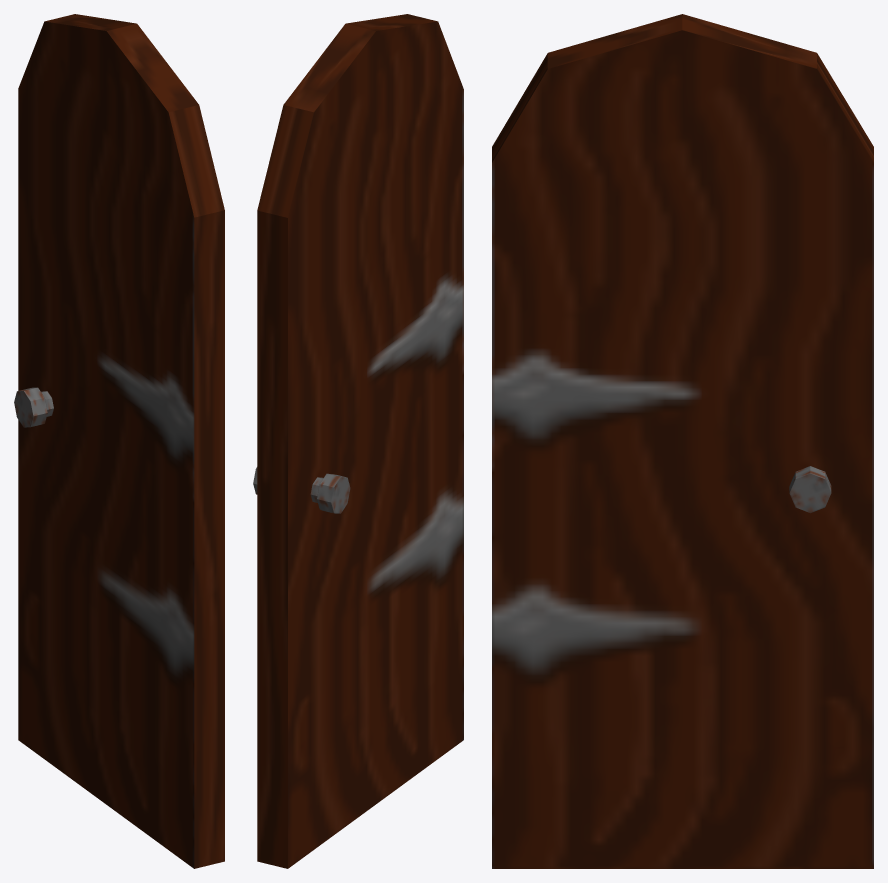
The model's file is puerta.fbx.
3 views of the same model, side by side, from view 1: azimuth 30°, elevation 25°; view 2: azimuth 150°, elevation 25°; view 3: azimuth 270°, elevation 25° (orthographic). The views are drawn at different scales.
Visible parts, largest first — view 1: Cylinder.001, Pomo; view 2: Cylinder.001, Pomo; view 3: Cylinder.001, Pomo.
Boxes of the visible parts, box(x1,y1,x2,y2) form: Cylinder.001: box(18, 14, 224, 868); Pomo: box(14, 387, 53, 427); Cylinder.001: box(257, 14, 463, 868); Pomo: box(253, 467, 350, 513); Cylinder.001: box(492, 14, 873, 868); Pomo: box(789, 466, 831, 513).
Bounding box in the file's own units: 98.18 × 25.16 × 238.
Materials: 1 (1 with a texture image).
